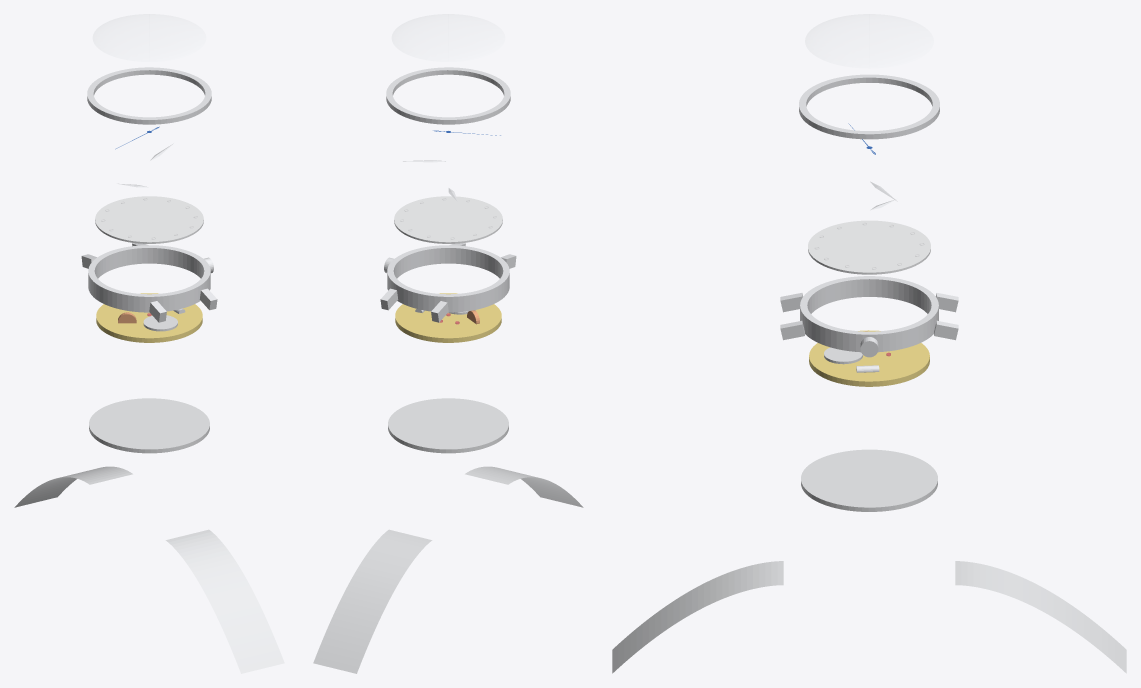
3 views of the same model, side by side, from view 1: azimuth 30°, elevation 25°; view 2: azimuth 150°, elevation 25°; view 3: azimuth 270°, elevation 25° (orthographic). The views are drawn at different scales.
Visible parts, largest first — view 1: 10_Bracelet_Strap, 9_Caseback, 8_Case, 1_Crystal, 3_Dial, 7_Mechanical_Movement, 2_Bezel, Movement_Battery_Cell; view 2: 10_Bracelet_Strap, 9_Caseback, 8_Case, 1_Crystal, 3_Dial, 7_Mechanical_Movement, 2_Bezel; view 3: 10_Bracelet_Strap, 9_Caseback, 8_Case, 1_Crystal, 3_Dial, 7_Mechanical_Movement, 2_Bezel.
Boxes of the visible parts, x1,y1,x2,y2 form: 10_Bracelet_Strap: (14,466,284,673); 9_Caseback: (89,398,209,453); 8_Case: (88,245,210,312); 1_Crystal: (93,14,205,61); 3_Dial: (95,196,203,243); 7_Mechanical_Movement: (96,293,202,342); 2_Bezel: (87,67,211,124); Movement_Battery_Cell: (143,315,177,331); 10_Bracelet_Strap: (313,466,583,673); 9_Caseback: (388,398,508,453); 8_Case: (387,245,509,312); 1_Crystal: (392,14,504,61); 3_Dial: (394,196,502,243); 7_Mechanical_Movement: (395,293,501,342); 2_Bezel: (386,67,510,124); 10_Bracelet_Strap: (612,561,1126,673); 9_Caseback: (801,449,937,511); 8_Case: (800,276,938,352); 1_Crystal: (805,14,933,68); 3_Dial: (808,220,930,274); 7_Mechanical_Movement: (809,330,929,386); 2_Bezel: (799,74,939,139).
Bounding box in the file's own units: 36.68 × 169 × 126.
